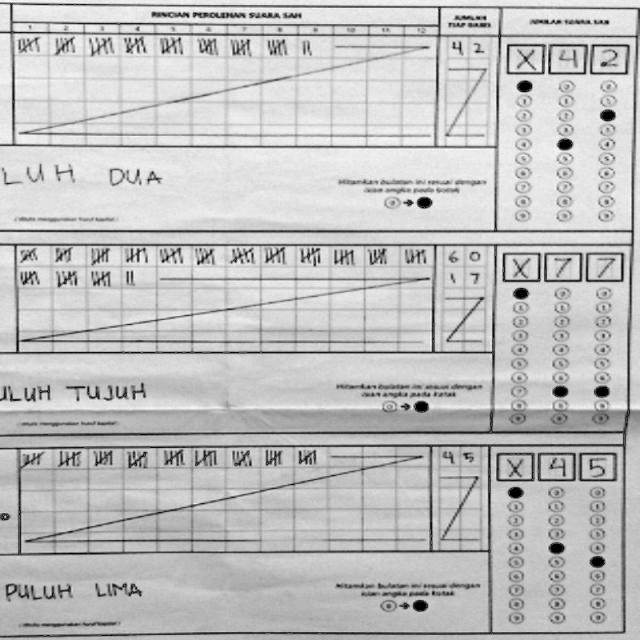Suara: (502, 35, 630, 77), (500, 243, 627, 284), (491, 444, 618, 483)
